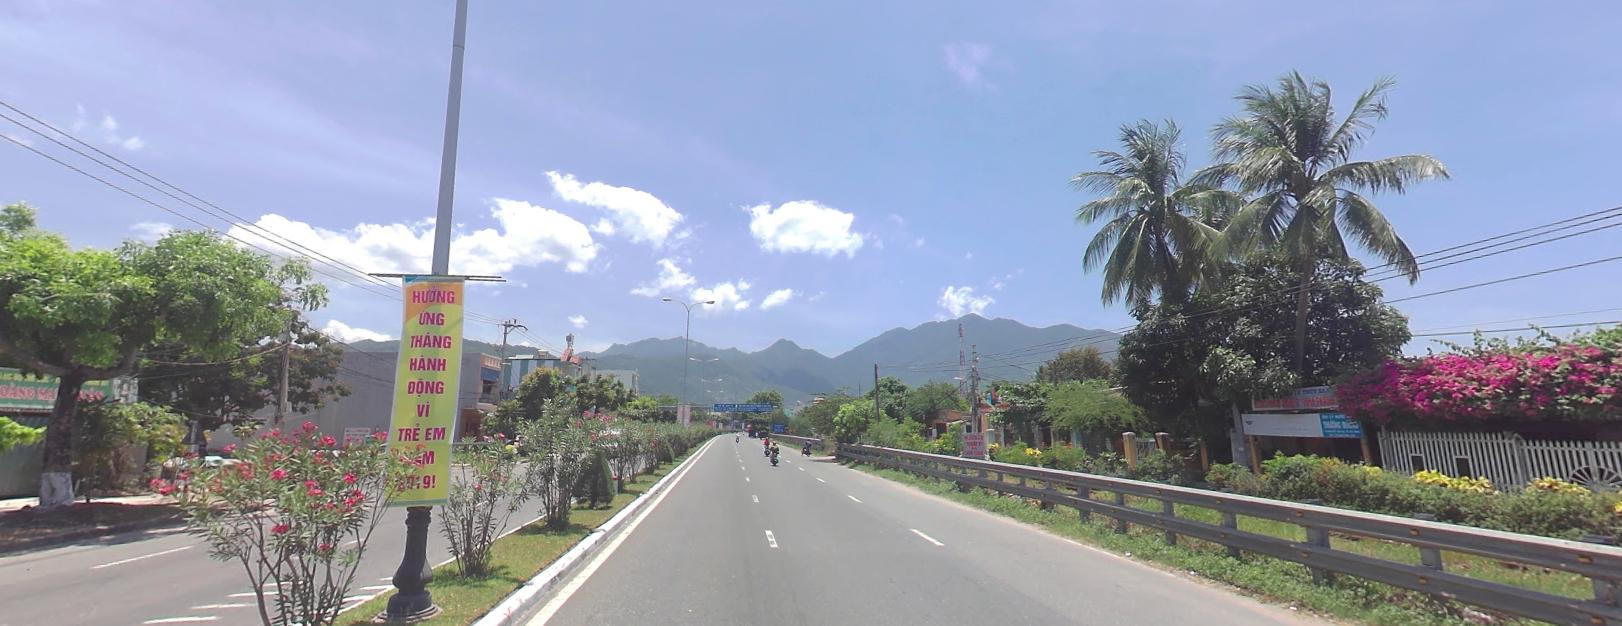Nguy hiem: (787, 425, 793, 430)
